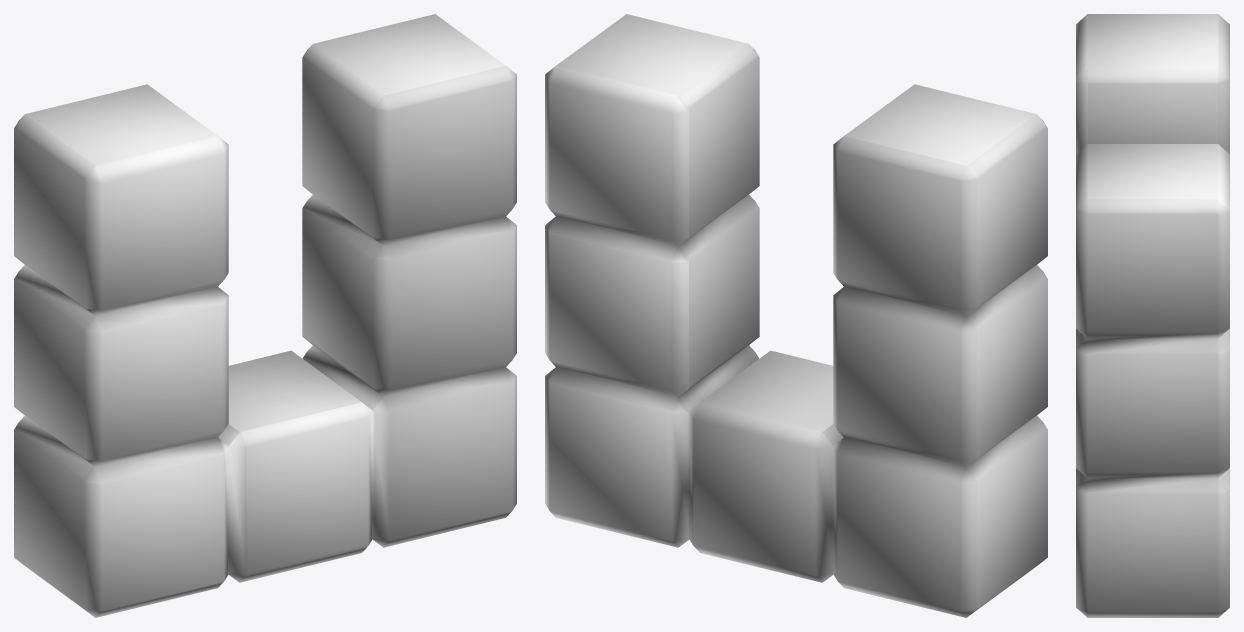
3 views of the same model, side by side, from view 1: azimuth 30°, elevation 25°; view 2: azimuth 150°, elevation 25°; view 3: azimuth 270°, elevation 25° (orthographic). The views are drawn at different scales.
Parts seen in each view (by area): view 1: U-shape; view 2: U-shape; view 3: U-shape.
Part boxes in pixels (bbox=[...]): U-shape: bbox=[14, 14, 516, 617]; U-shape: bbox=[545, 14, 1047, 617]; U-shape: bbox=[1076, 14, 1229, 617].
Size of the model in its own units: 3 by 3 by 1.
